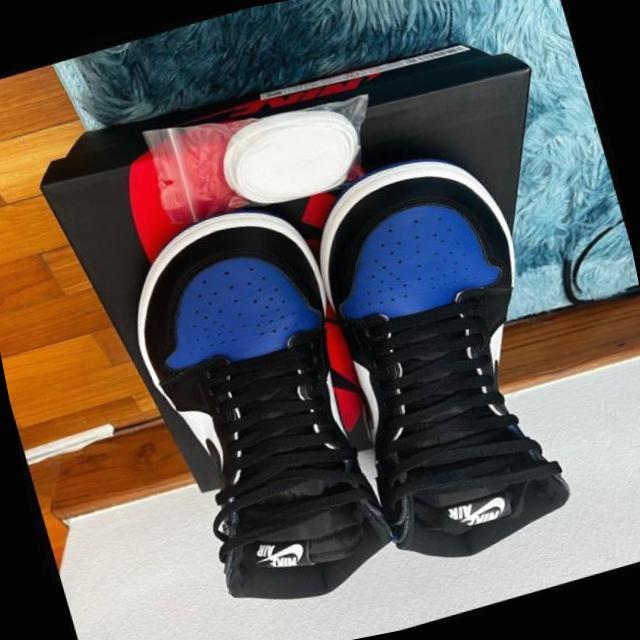nike_original_jordan: (284, 127, 599, 587), (108, 185, 410, 629)
